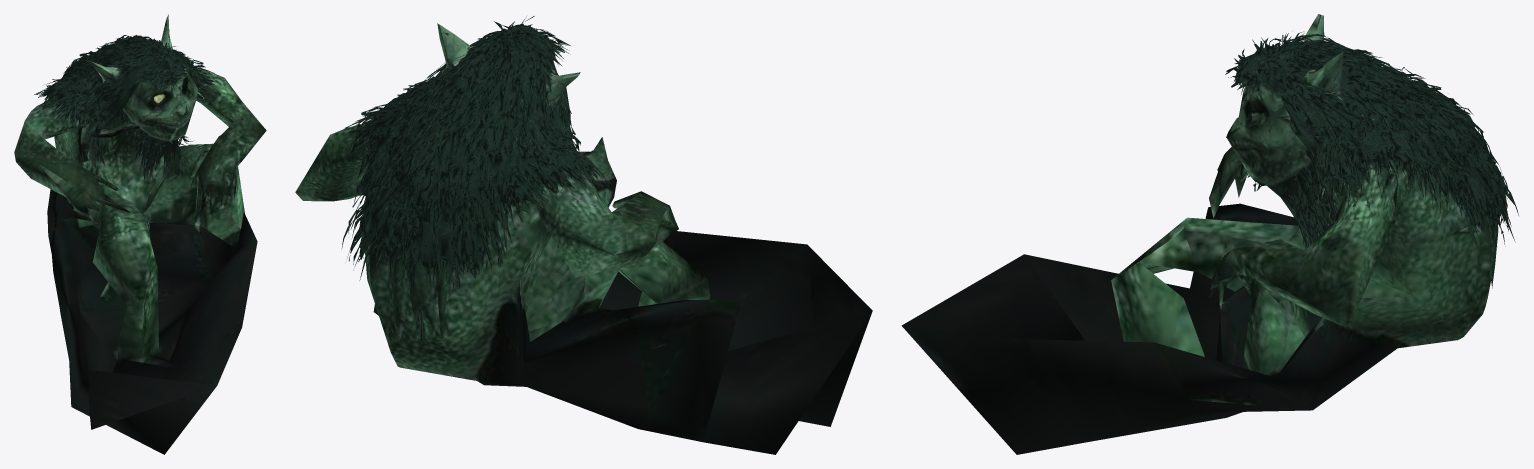
The model's file is troll.glb.
The picture shows the model from 3 angles, left to right: view 1: azimuth 30°, elevation 25°; view 2: azimuth 150°, elevation 25°; view 3: azimuth 270°, elevation 25°; orthographic projection. The views are drawn at different scales.
Bounding box in the file's own units: 1.42 × 1.59 × 1.84.
1 material, 1 textured.
